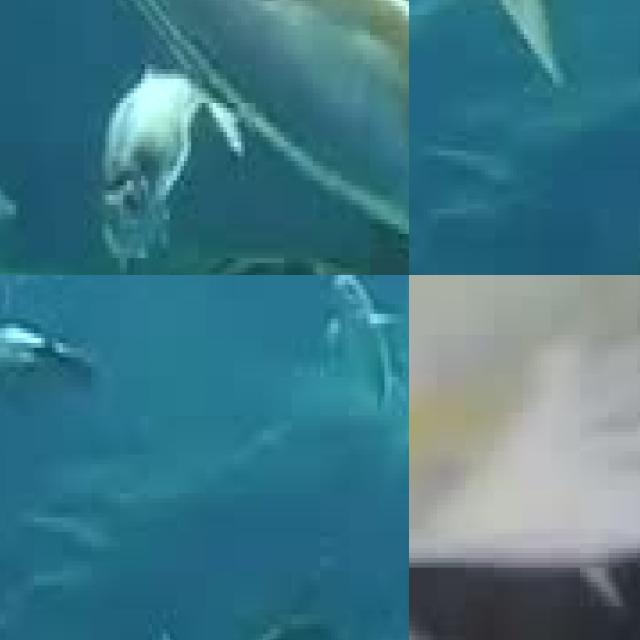fish: (0, 0, 409, 275), (409, 0, 592, 87)
